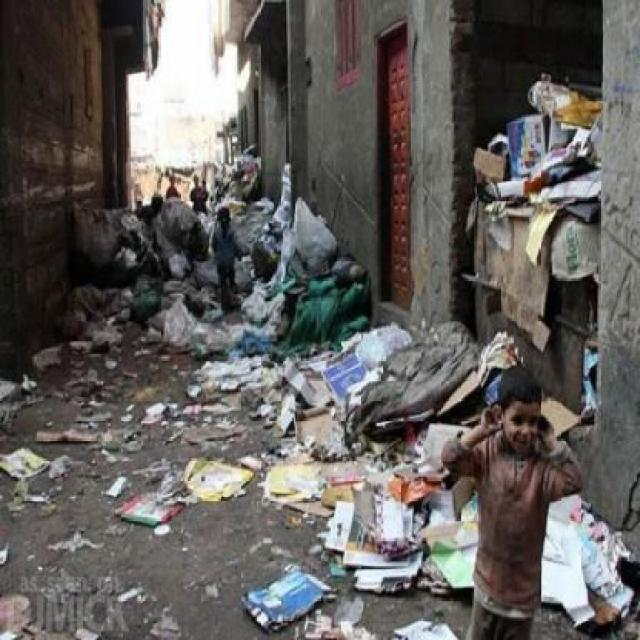garbage: (160, 294, 454, 452), (274, 440, 426, 588), (465, 68, 605, 212), (251, 208, 344, 410), (543, 506, 624, 619), (239, 566, 326, 623), (176, 452, 253, 500)
